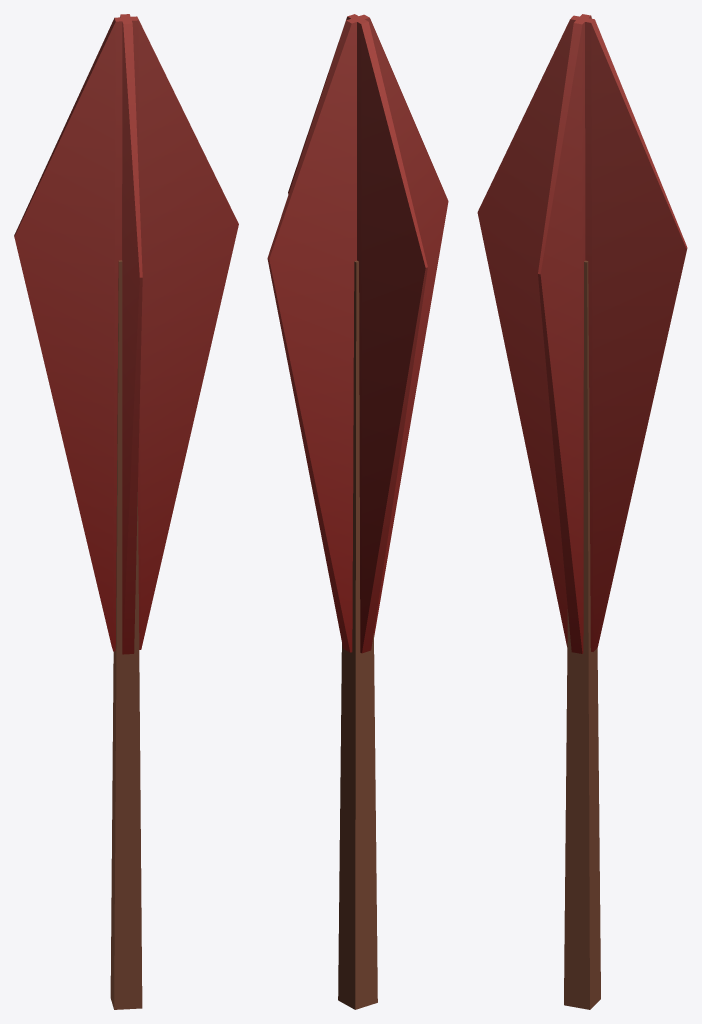
The model's file is Tree_32_gradient_red_vc.fbx.
The picture shows the model from 3 angles, left to right: view 1: azimuth 30°, elevation 25°; view 2: azimuth 150°, elevation 25°; view 3: azimuth 270°, elevation 25°; orthographic projection.
Visible parts, largest first — view 1: Tree_32_gradient_red_vc; view 2: Tree_32_gradient_red_vc; view 3: Tree_32_gradient_red_vc.
Boxes of the visible parts, x1,y1,x2,y2 form: Tree_32_gradient_red_vc: (14, 14, 238, 1009); Tree_32_gradient_red_vc: (267, 14, 448, 1009); Tree_32_gradient_red_vc: (477, 14, 687, 1009).
Bounding box in the file's own units: 48.99 × 253 × 48.99.
